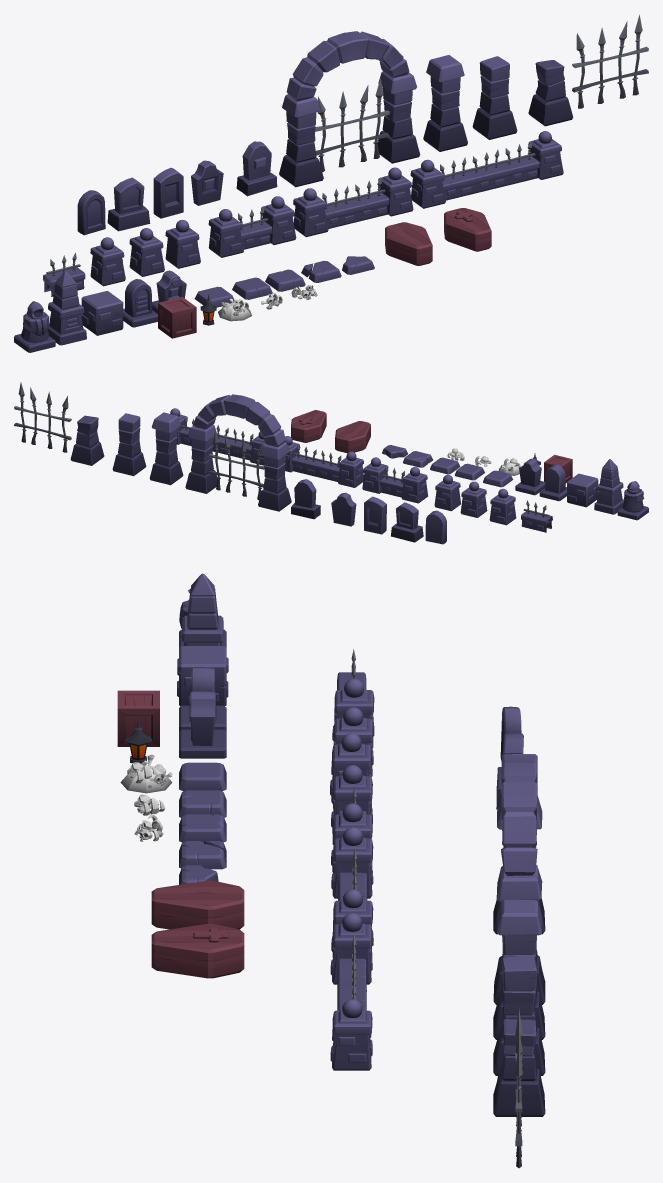
File: CementeryPack.glb
The picture shows the model from 3 angles, top to bottom: view 1: azimuth 30°, elevation 25°; view 2: azimuth 150°, elevation 25°; view 3: azimuth 270°, elevation 25°; orthographic projection. The views are drawn at different scales.
Visible parts, largest first — view 1: outside_fence, fence_large, fence_medium, arch.001, fence_short, column_1, column_2, column_3, tomb_1, metal_fence, coffin, coffin_2 (+19 smaller); view 2: outside_fence, arch.001, fence_medium, fence_short, column_1, column_2, fence_large, column_3, tomb_1, metal_fence, coffin_2, coffin (+20 smaller); view 3: fence_large, coffin_2, arch.001, coffin, fence_medium, column_3, column_1, column_2, fence_short, outside_fence, tomb_3, tomb_1 (+12 smaller).
Boxes of the visible parts, x1=… form: outside_fence: x1=279, y1=71, x2=420, y2=187; fence_large: x1=410, y1=131, x2=563, y2=208; fence_medium: x1=293, y1=167, x2=413, y2=237; arch.001: x1=286, y1=31, x2=409, y2=101; fence_short: x1=208, y1=196, x2=296, y2=257; column_1: x1=423, y1=55, x2=467, y2=151; column_2: x1=472, y1=56, x2=517, y2=139; column_3: x1=528, y1=60, x2=573, y2=126; tomb_1: x1=48, y1=271, x2=86, y2=345; metal_fence: x1=572, y1=14, x2=648, y2=108; coffin: x1=385, y1=222, x2=432, y2=265; coffin_2: x1=444, y1=208, x2=491, y2=251; outside_fence: x1=185, y1=424, x2=291, y2=511; arch.001: x1=193, y1=394, x2=285, y2=446; fence_medium: x1=285, y1=436, x2=363, y2=487; fence_short: x1=362, y1=457, x2=427, y2=503; column_1: x1=149, y1=412, x2=183, y2=485; column_2: x1=112, y1=413, x2=146, y2=476; fence_large: x1=170, y1=408, x2=265, y2=465; column_3: x1=70, y1=415, x2=104, y2=465; tomb_1: x1=594, y1=459, x2=623, y2=514; metal_fence: x1=14, y1=382, x2=71, y2=452; coffin_2: x1=291, y1=410, x2=326, y2=442; coffin: x1=335, y1=421, x2=370, y2=453; fence_large: x1=330, y1=913, x2=372, y2=1070; coffin_2: x1=151, y1=923, x2=244, y2=978; arch.001: x1=501, y1=754, x2=537, y2=875; coffin: x1=151, y1=880, x2=244, y2=929; fence_medium: x1=331, y1=827, x2=373, y2=957; column_3: x1=493, y1=1019, x2=545, y2=1116; column_1: x1=493, y1=900, x2=545, y2=1039; column_2: x1=493, y1=956, x2=545, y2=1075; fence_short: x1=331, y1=765, x2=372, y2=873; outside_fence: x1=493, y1=796, x2=545, y2=1004; tomb_3: x1=179, y1=691, x2=226, y2=758; tomb_1: x1=182, y1=573, x2=223, y2=645.
Size of the model in its own units: 53.3 by 9.22 by 17.96.
Materials: 1 (1 with a texture image).
